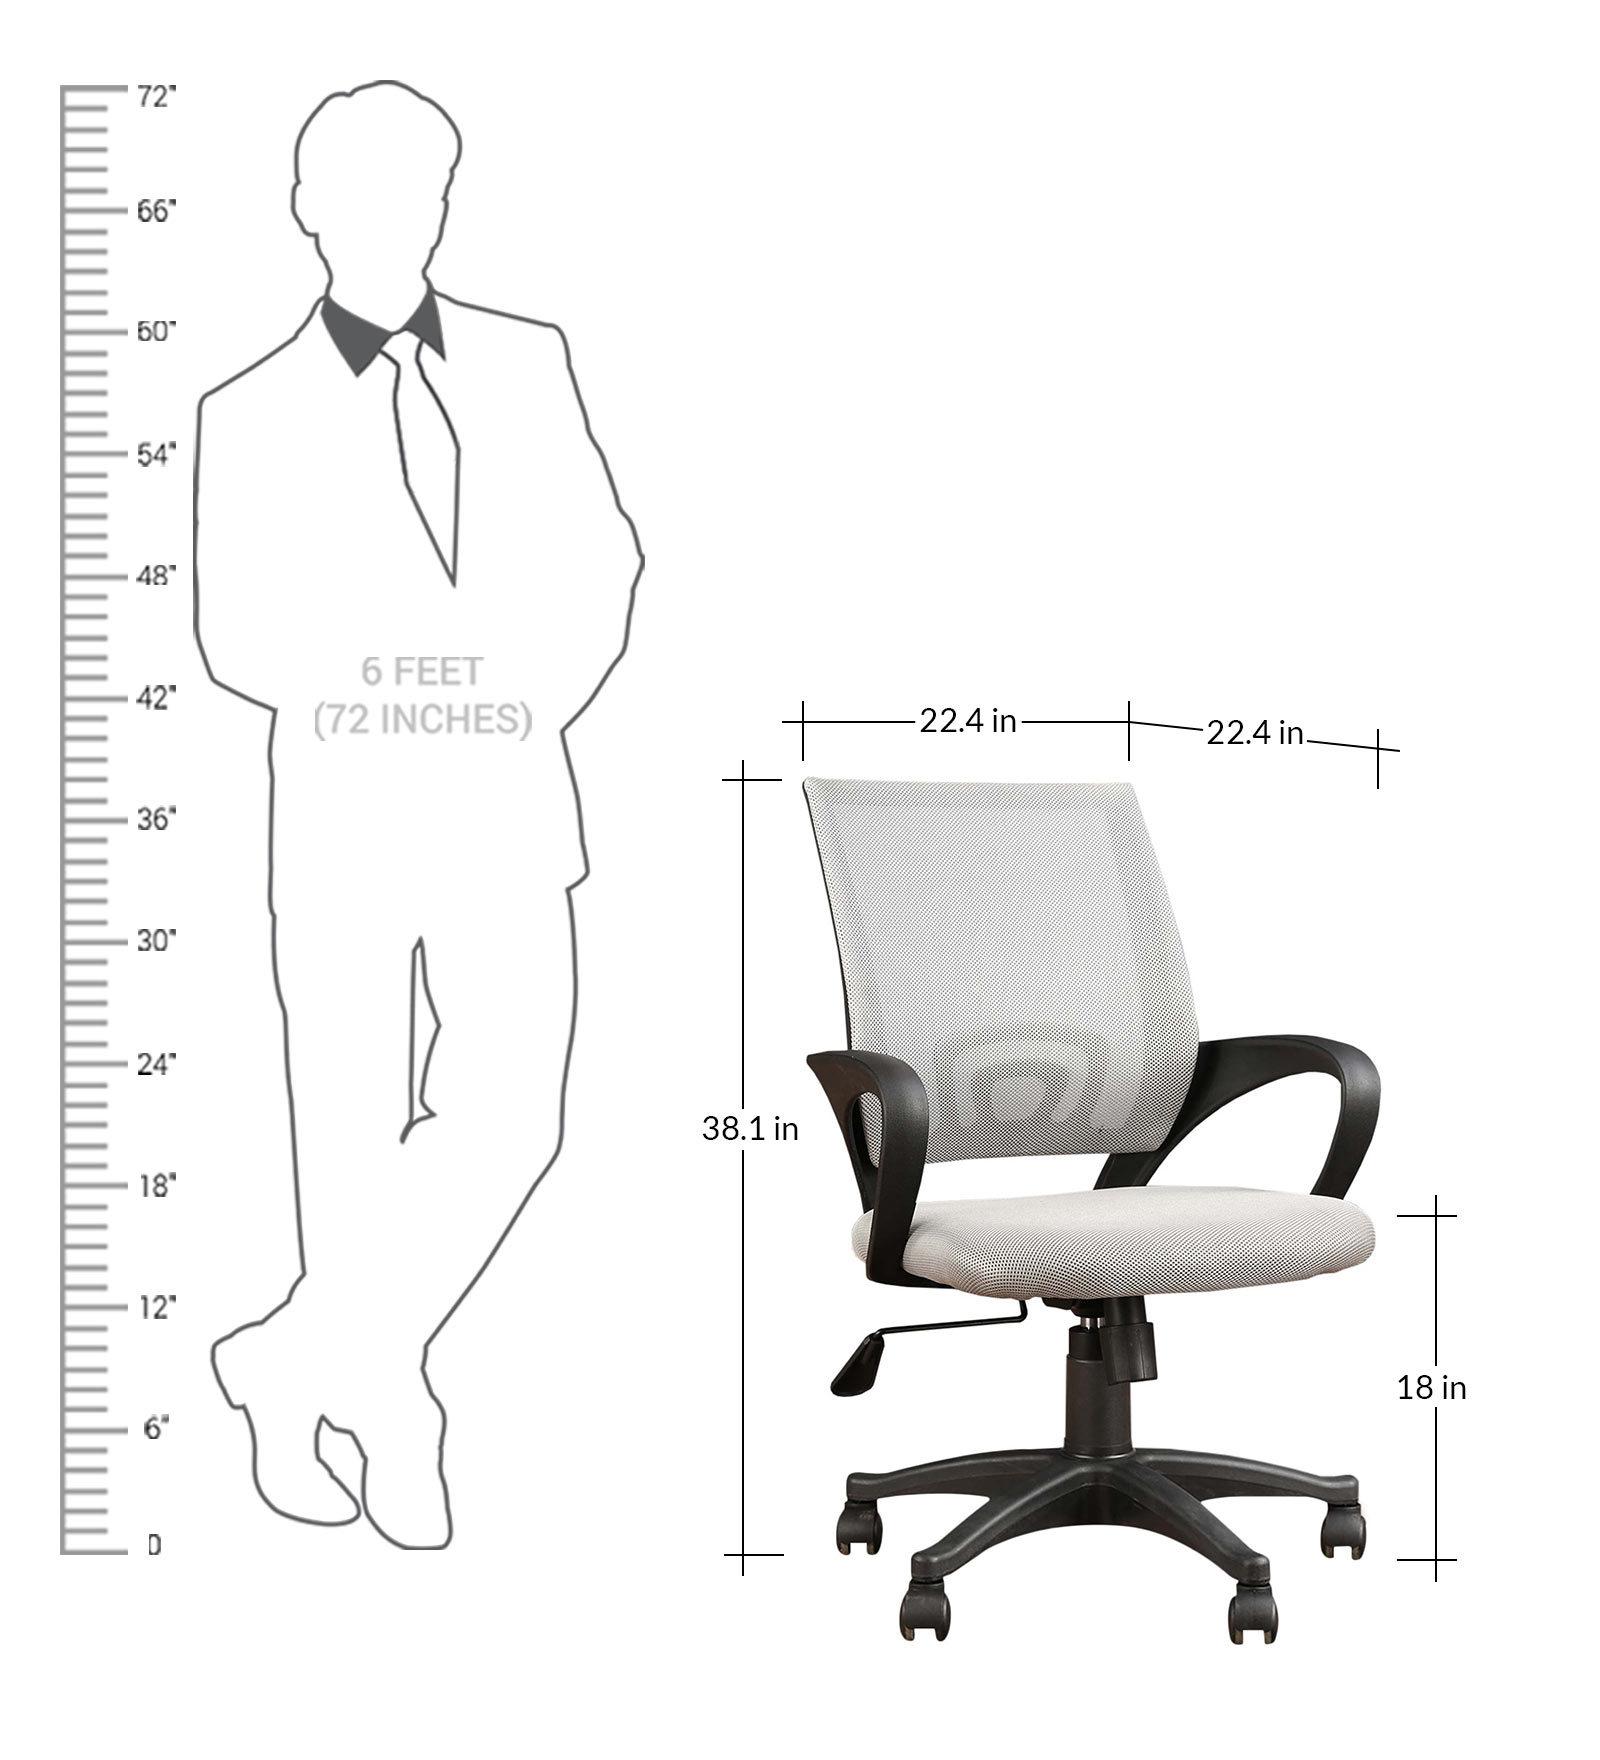Bolton Low Back Ergonomic Chair in Grey Colour by HomeTown: (765, 753, 1395, 1689)
